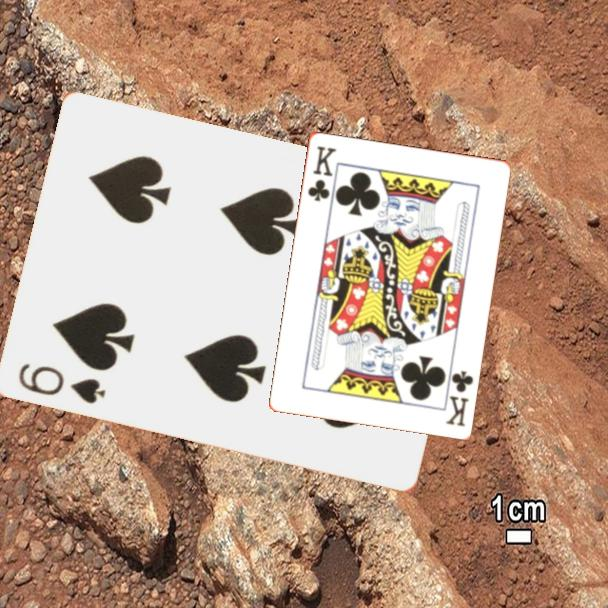c13: (304, 142, 339, 204), (442, 367, 476, 429)
s06: (14, 360, 108, 408)
